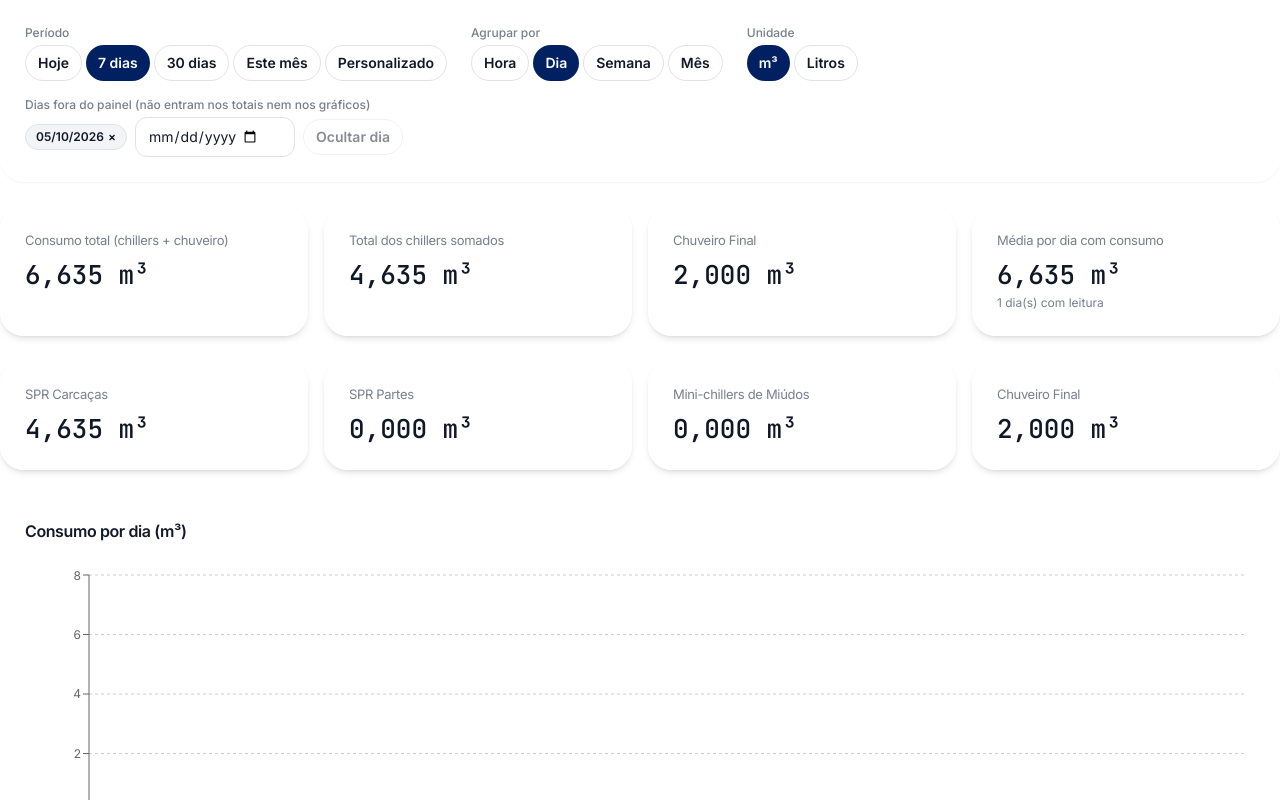
Test case: Painel de Indicadores — aba Consumo de água › troca a unidade para litros e o agrupamento para hora (o volume é dividido entre as horas do intervalo)
The image size is (1280, 800).
Click the button "Litros" at [826, 63], box [794, 45, 858, 81]
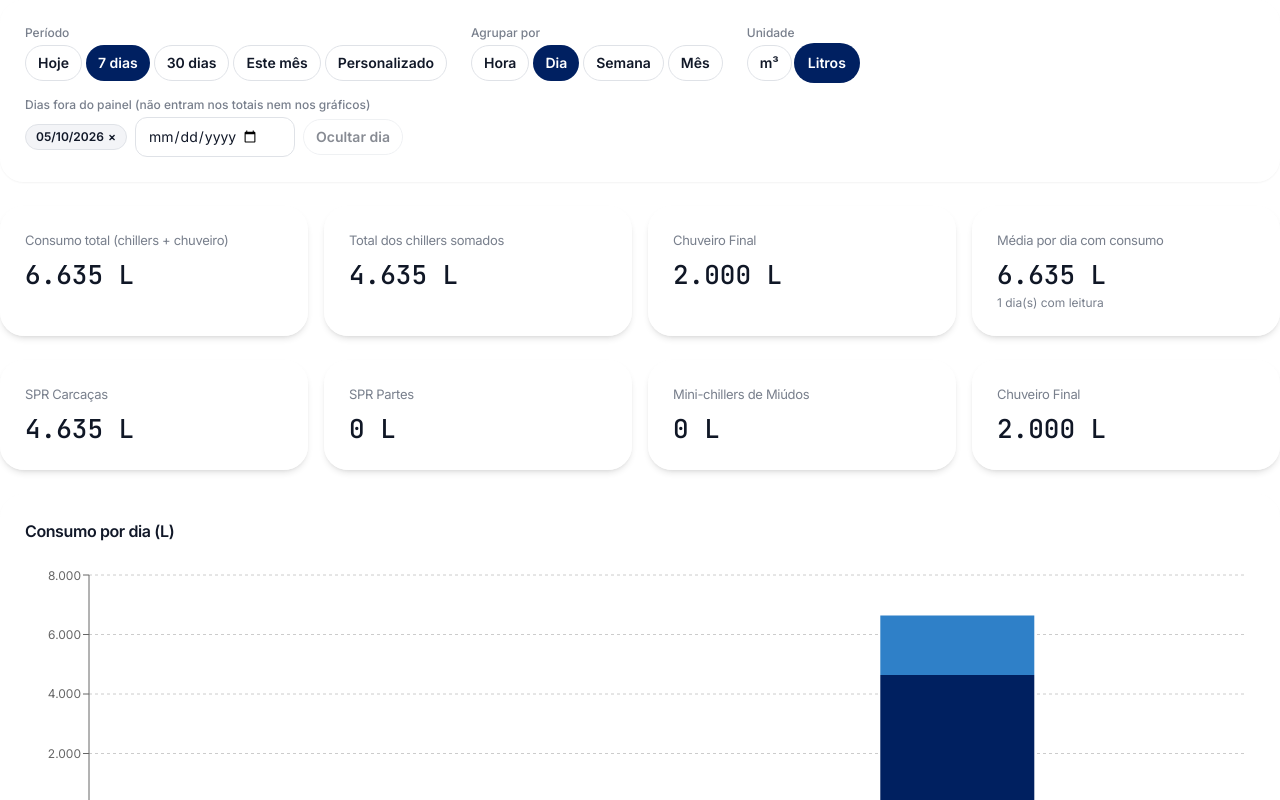
Now the text "6.635 L" is shown, box [25, 256, 134, 292]
Click the button "Hora" at [500, 63], box [471, 45, 529, 81]
(page scrolled)
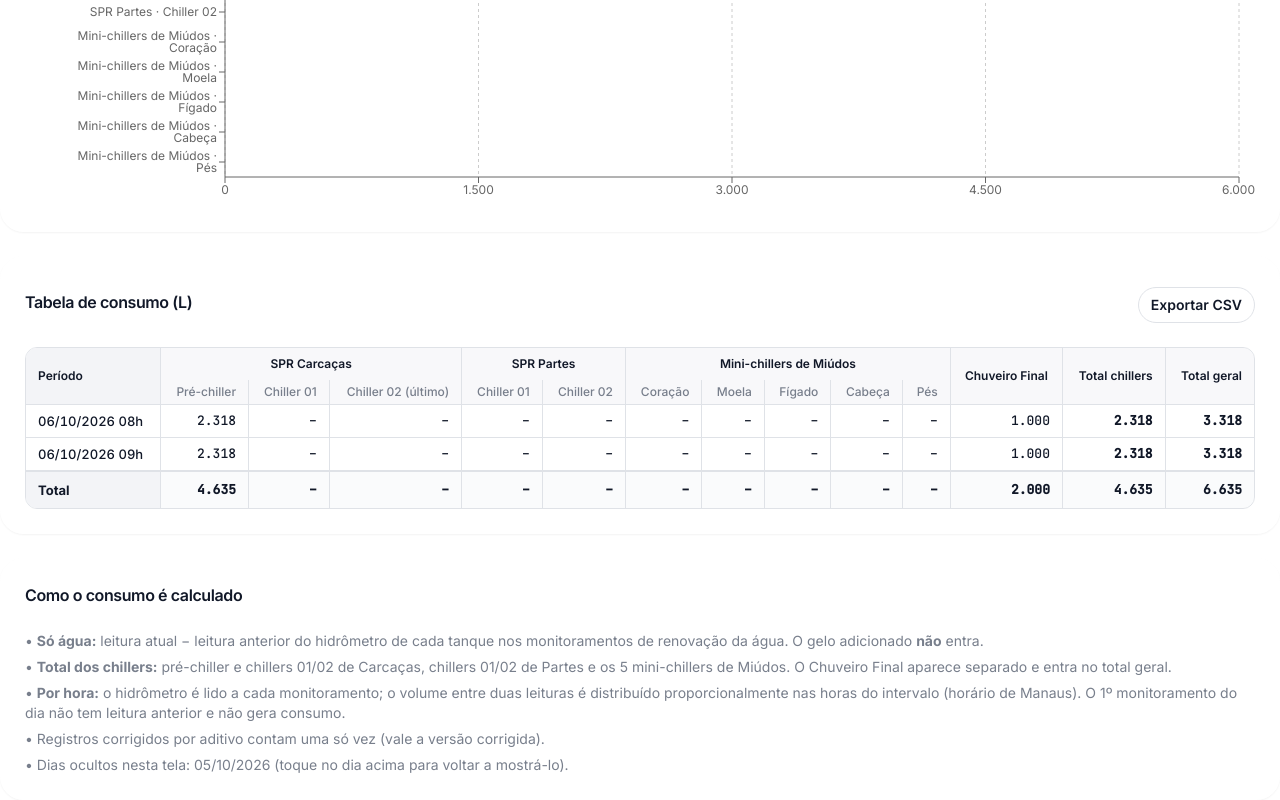
Now the row "06/10/2026 08h 2.318 – – – – – – – – – 1.000 2.318 3.318" is shown, box [26, 404, 1254, 438]
Now the row "06/10/2026 09h 2.318 – – – – – – – – – 1.000 2.318 3.318" is shown, box [26, 438, 1254, 471]
